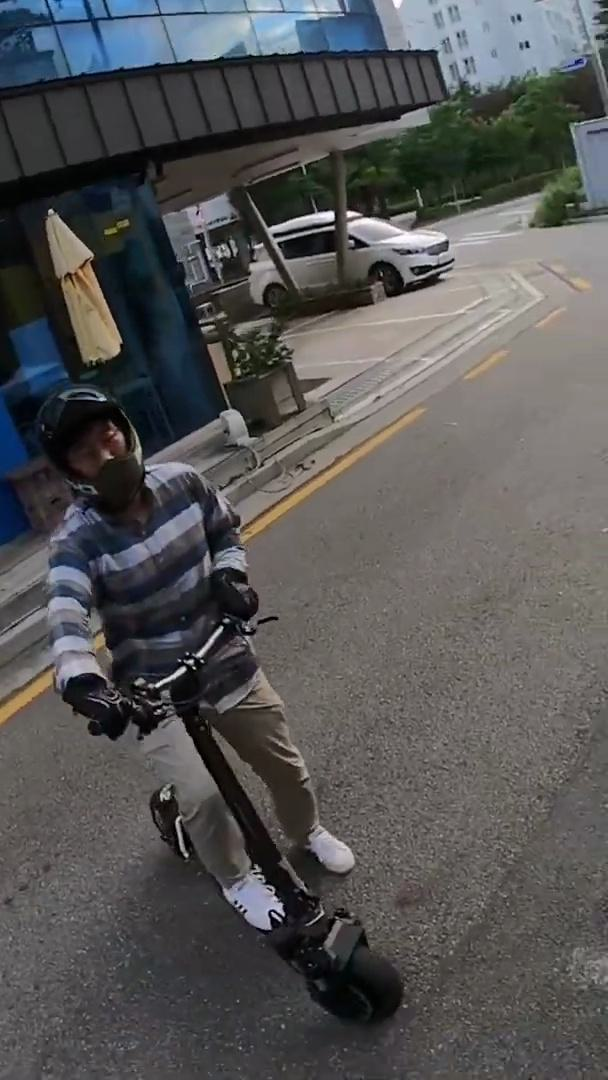helmet: (26, 383, 410, 1032)
